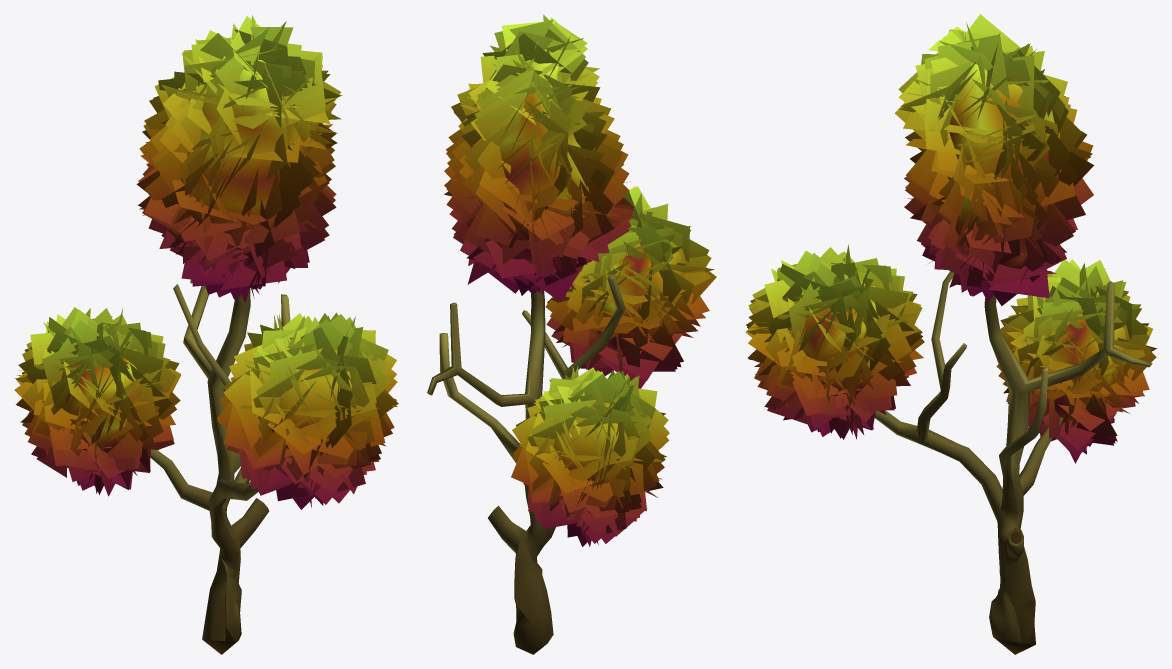
The model's file is Forest_Tree_3C.fbx.
3 views of the same model, side by side, from view 1: azimuth 30°, elevation 25°; view 2: azimuth 150°, elevation 25°; view 3: azimuth 270°, elevation 25° (orthographic). The views are drawn at different scales.
Parts seen in each view (by area): view 1: Forest_Tree_3C; view 2: Forest_Tree_3C; view 3: Forest_Tree_3C.
Part boxes in pixels (bbox=[...]): Forest_Tree_3C: bbox=[14, 15, 398, 654]; Forest_Tree_3C: bbox=[427, 14, 716, 654]; Forest_Tree_3C: bbox=[745, 14, 1157, 654].
Size of the model in its own units: 342 by 823 by 483.
